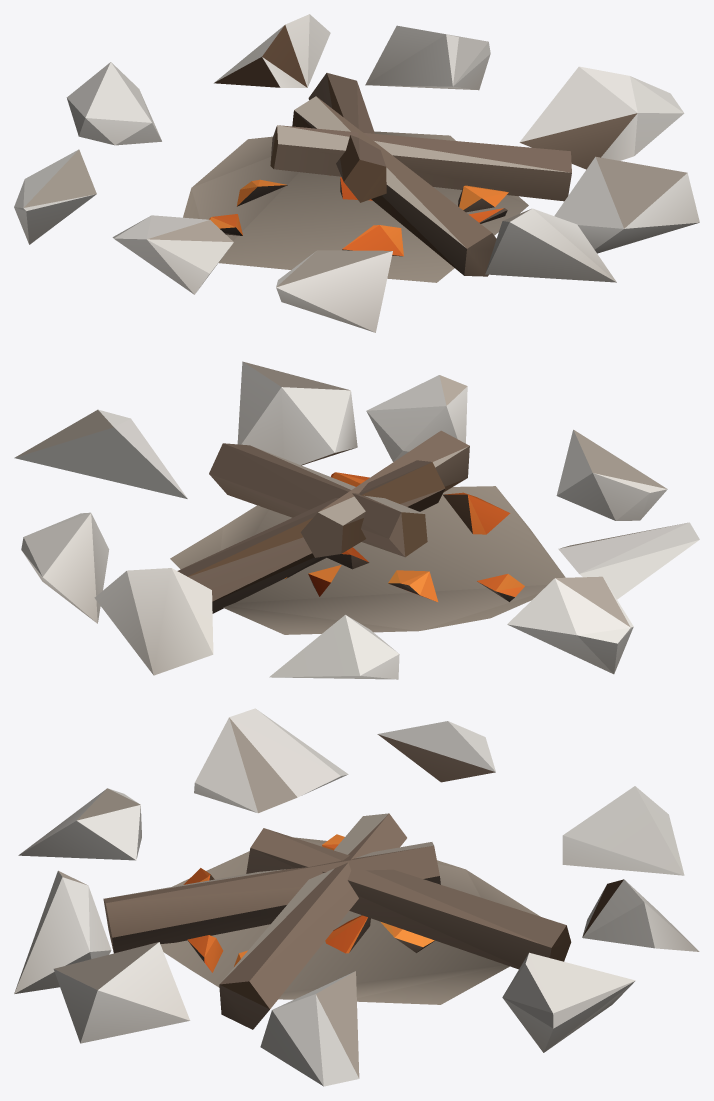
Rendered from ash_firepit.glb.
3 renders of one model, top to bottom at view 1: azimuth 30°, elevation 25°; view 2: azimuth 150°, elevation 25°; view 3: azimuth 270°, elevation 25°, orthographic. The views are drawn at different scales.
Visible parts, largest first — view 1: ca_ash_firepit; view 2: ca_ash_firepit; view 3: ca_ash_firepit.
Boxes of the visible parts, x1=… form: ca_ash_firepit: x1=14, y1=14, x2=699, y2=332; ca_ash_firepit: x1=14, y1=361, x2=699, y2=679; ca_ash_firepit: x1=14, y1=708, x2=699, y2=1086.
Size of the model in its own units: 0.6078 by 0.0784 by 0.5229.
1 material, 1 textured.
